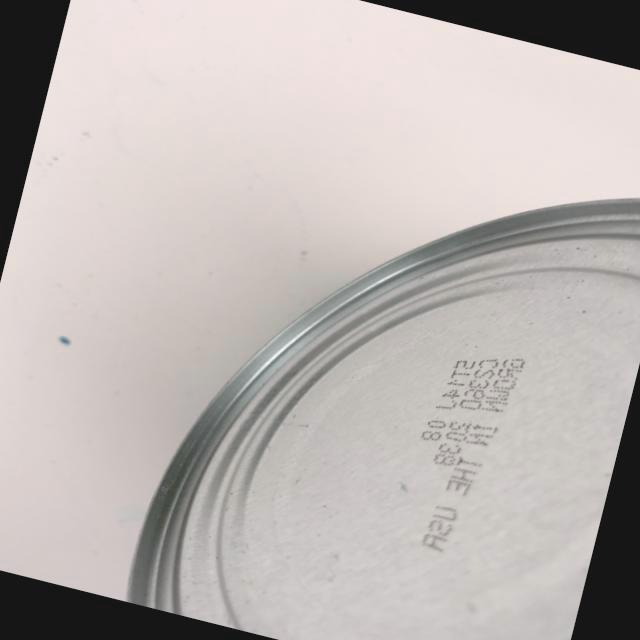metal: (113, 71, 640, 640)
